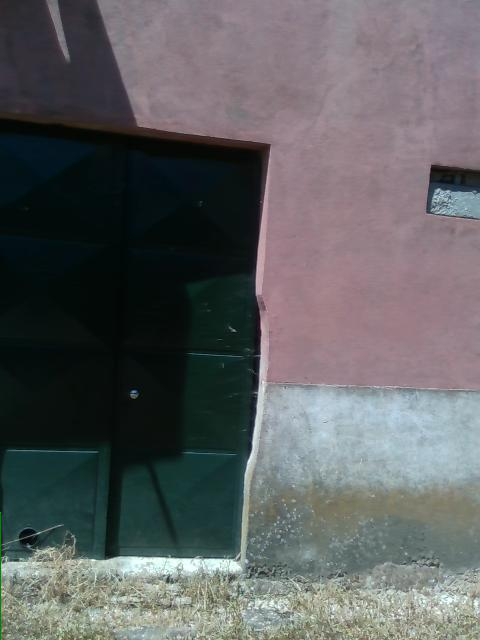door: (0, 107, 271, 572)
